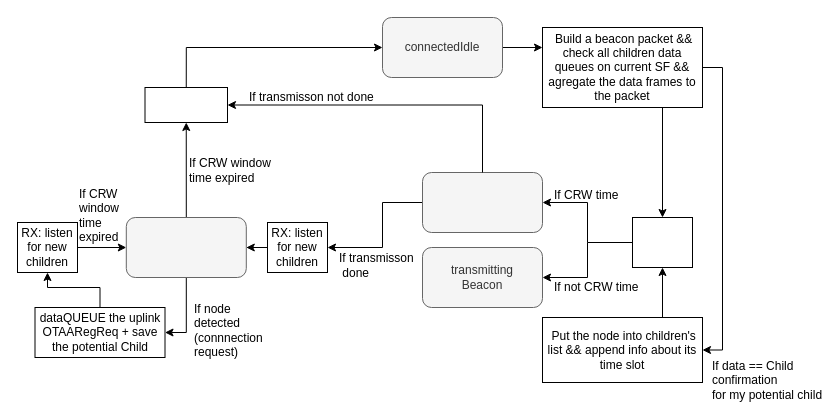
The diagram is 840 pixels wide and 420 high, and some of its shapes have lost their labels. Each missing label, with the centre of its shape:
QUEUE new beacon time: [186,104]
receivingNew ChildNodes: [185,247]
transmitting CRW Beacon: [482,202]
TX: beacon: [662,242]
